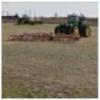tractors: (54, 12, 92, 38)
